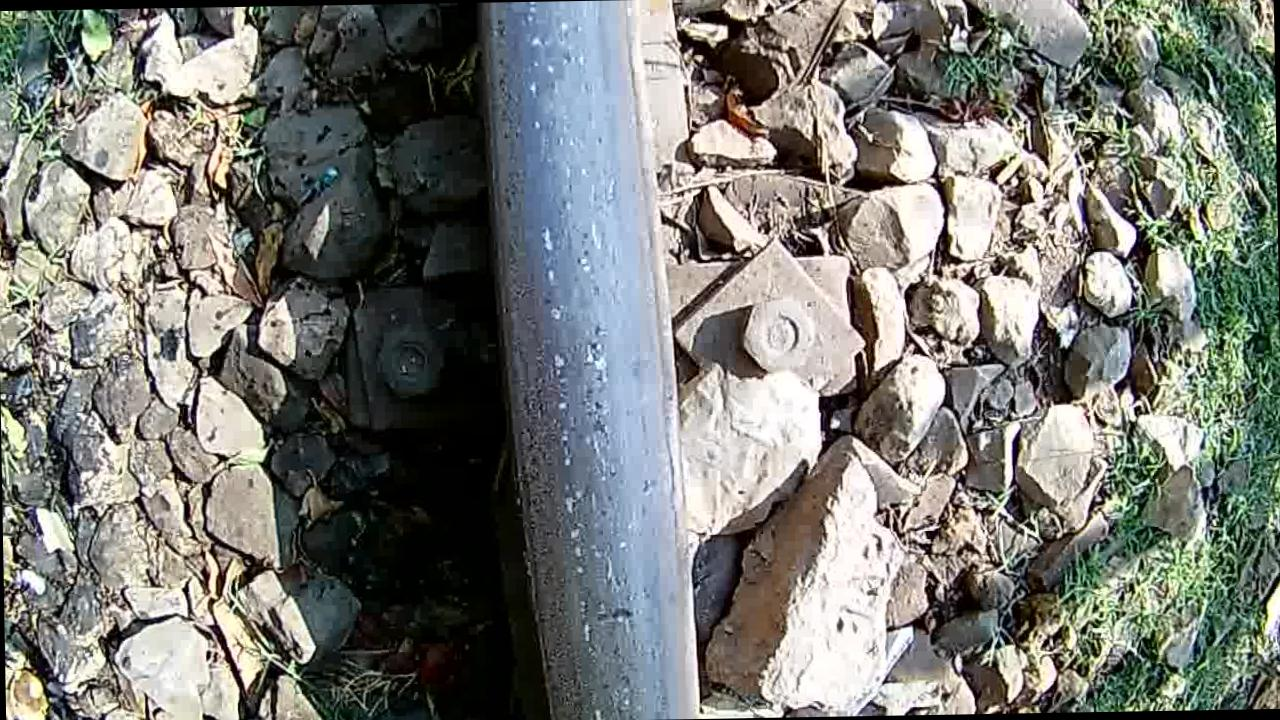clip_missing: (465, 0, 700, 720)
